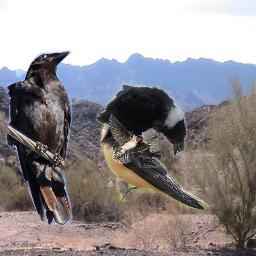Crow: (6, 49, 73, 225), (96, 84, 188, 168)
Swallow: (100, 105, 216, 216), (108, 114, 157, 164)
